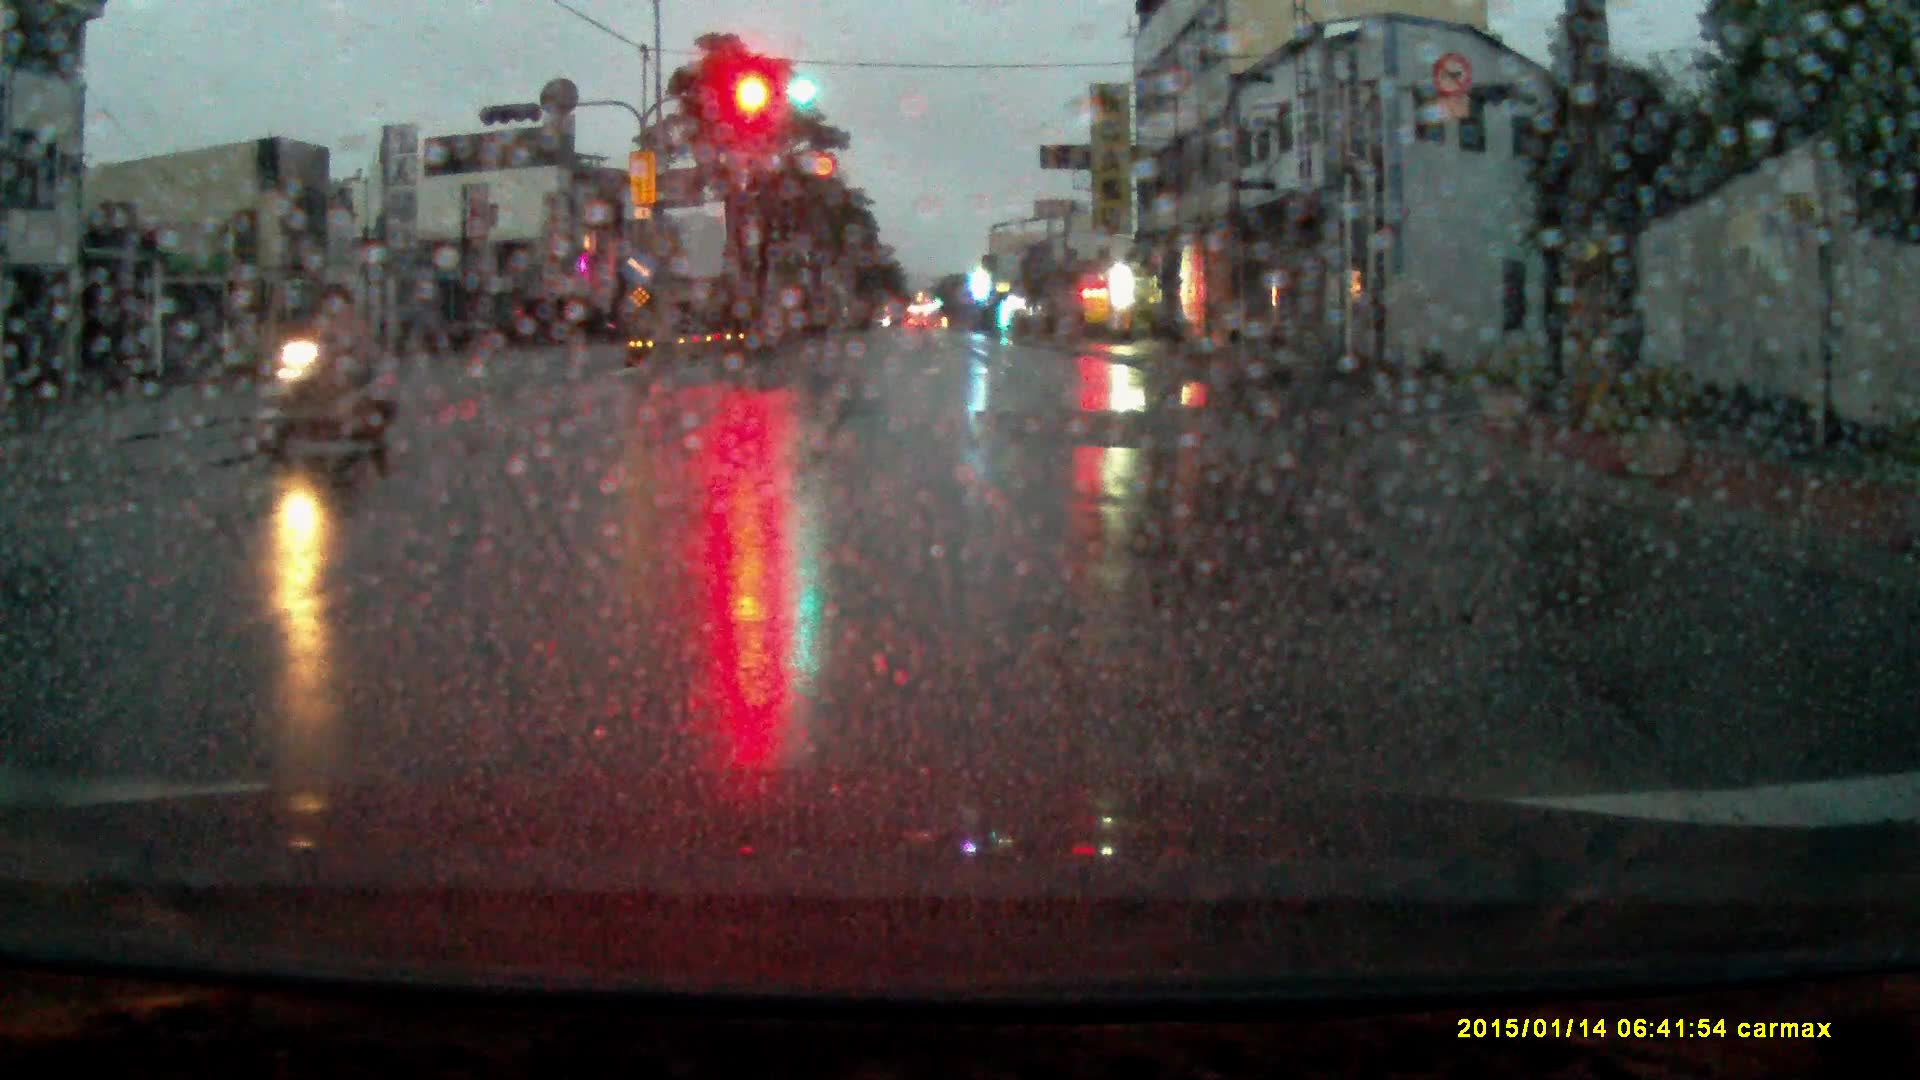rider: (247, 275, 393, 464)
